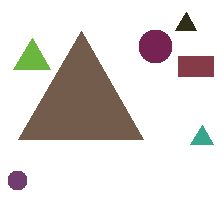circle: (139, 30, 171, 62), (8, 171, 26, 189)
rectangle: (178, 56, 213, 76)
triangle: (18, 31, 143, 139), (13, 38, 50, 69), (190, 125, 213, 144), (175, 12, 196, 30)
